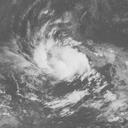cyclone: (9, 18, 94, 82)
